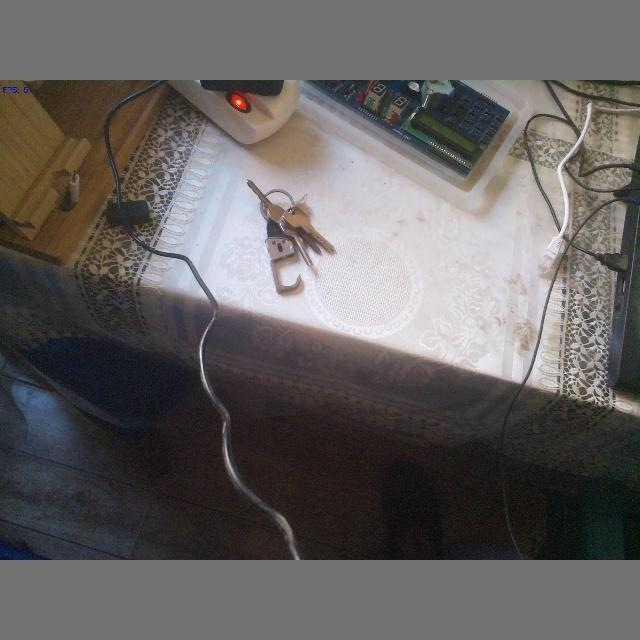Keys: (239, 174, 345, 306)
